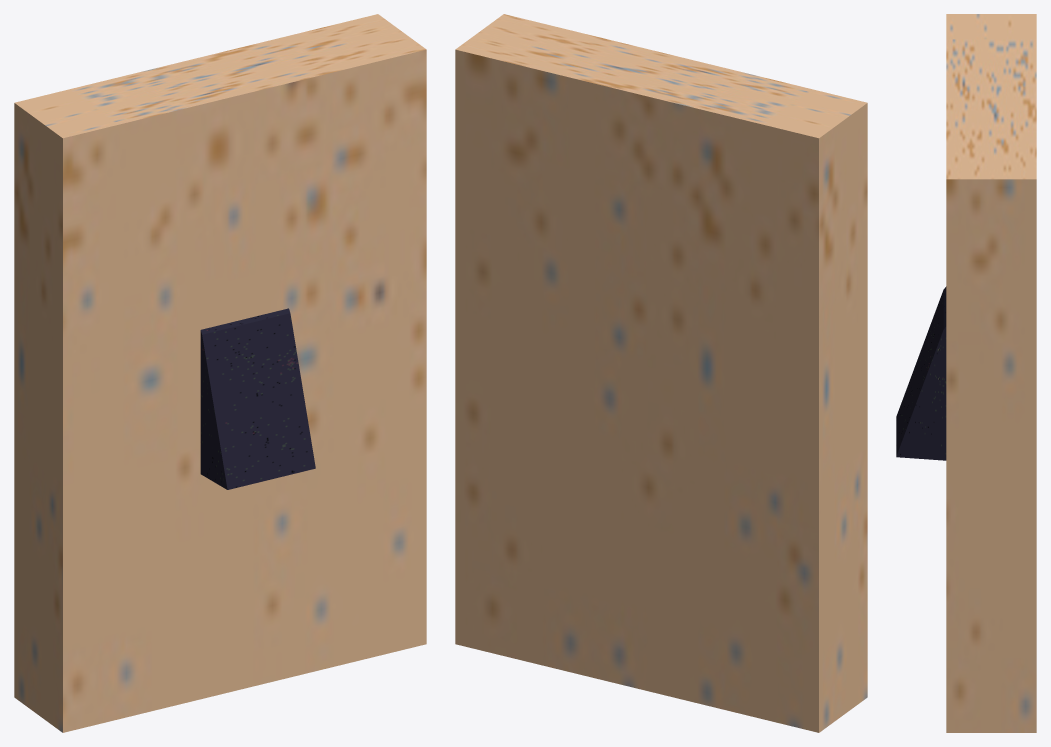
File: Switch on.fbx
3 views of the same model, side by side, from view 1: azimuth 30°, elevation 25°; view 2: azimuth 150°, elevation 25°; view 3: azimuth 270°, elevation 25° (orthographic). The views are drawn at different scales.
Visible parts, largest first — view 1: Switch on; view 2: Switch on; view 3: Switch on.
Part boxes in pixels (bbox=[...]): Switch on: bbox=[14, 14, 426, 732]; Switch on: bbox=[455, 14, 867, 732]; Switch on: bbox=[896, 14, 1036, 732].
Size of the model in its own units: 17.59 by 27.47 by 6.32.
Materials: 2 (2 with a texture image).
